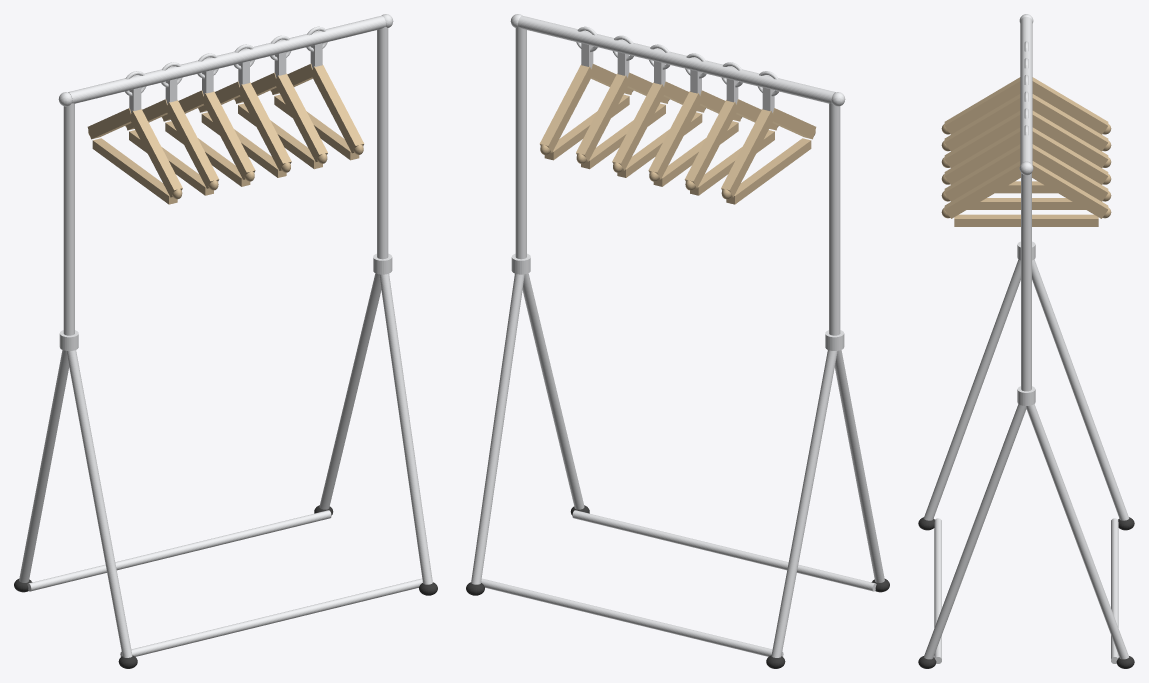
File: GarmentRack.glb
The picture shows the model from 3 angles, left to right: view 1: azimuth 30°, elevation 25°; view 2: azimuth 150°, elevation 25°; view 3: azimuth 270°, elevation 25°; orthographic projection. The views are drawn at different scales.
Parts seen in each view (by area): view 1: Rack_TopBar, Rack_Leg_R_Back, Rack_Leg_L_Back, Rack_Pole_L, Rack_Pole_R, Rack_BottomBar_Front, Rack_BottomBar_Back, Rack_Leg_R_Front, Rack_Leg_L_Front, Hanger_PufferNavy_Slope_B, Hanger_CoatBlack_Slope_B, Hanger_CoatBeige_Slope_B (+10 smaller); view 2: Rack_TopBar, Rack_Leg_R_Front, Rack_Leg_L_Front, Rack_Pole_L, Rack_Pole_R, Rack_BottomBar_Back, Rack_BottomBar_Front, Rack_Leg_R_Back, Rack_Leg_L_Back, Hanger_PufferNavy_Slope_F, Hanger_CoatBlack_Slope_F, Hanger_CoatCharcoal_Slope_F (+10 smaller); view 3: Rack_Leg_R_Back, Rack_Leg_R_Front, Rack_Leg_L_Back, Rack_Leg_L_Front, Rack_Pole_R, Hanger_ParkaGreen_Bar, Rack_TopBar, Hanger_ParkaGreen_Slope_B, Hanger_ParkaGreen_Slope_F, Hanger_Sweater_Slope_B, Hanger_Sweater_Slope_F, Hanger_CoatCharcoal_Slope_B (+11 smaller).
Part boxes in pixels (x1,y1,x2,y2): Rack_TopBar: (68,15,385,103); Rack_Leg_R_Back: (379,273,432,584); Rack_Leg_L_Back: (66,350,132,657); Rack_Pole_L: (63,103,74,335); Rack_Pole_R: (377,27,388,259); Rack_BottomBar_Front: (27,510,331,591); Rack_BottomBar_Back: (120,578,422,656); Rack_Leg_R_Front: (319,273,381,509); Rack_Leg_L_Front: (19,350,69,582); Hanger_PufferNavy_Slope_B: (274,73,327,161); Hanger_CoatBlack_Slope_B: (165,100,219,188); Hanger_CoatBeige_Slope_B: (202,91,255,179); Rack_TopBar: (518,15,835,103); Rack_Leg_R_Front: (471,273,524,584); Rack_Leg_L_Front: (771,350,837,657); Rack_Pole_L: (829,103,840,335); Rack_Pole_R: (515,27,526,259); Rack_BottomBar_Back: (572,510,876,591); Rack_BottomBar_Front: (481,578,783,656); Rack_Leg_R_Back: (522,273,584,509); Rack_Leg_L_Back: (834,350,884,582); Hanger_PufferNavy_Slope_F: (576,73,629,161); Hanger_CoatBlack_Slope_F: (684,100,738,188); Hanger_CoatCharcoal_Slope_F: (612,82,665,170); Rack_Leg_R_Back: (924,404,1026,659); Rack_Leg_R_Front: (1026,404,1128,659); Rack_Leg_L_Back: (923,259,1020,520); Rack_Leg_L_Front: (1032,259,1129,520); Rack_Pole_R: (1021,173,1031,391); Hanger_ParkaGreen_Bar: (954,214,1098,226); Rack_TopBar: (1020,17,1032,164); Hanger_ParkaGreen_Slope_B: (944,161,1020,218); Hanger_ParkaGreen_Slope_F: (1032,161,1108,218); Hanger_Sweater_Slope_B: (944,77,1020,134); Hanger_Sweater_Slope_F: (1032,77,1108,134); Hanger_CoatCharcoal_Slope_B: (944,127,1020,184).
Bounding box in the file's own units: 1.01 × 1.57 × 0.6.
